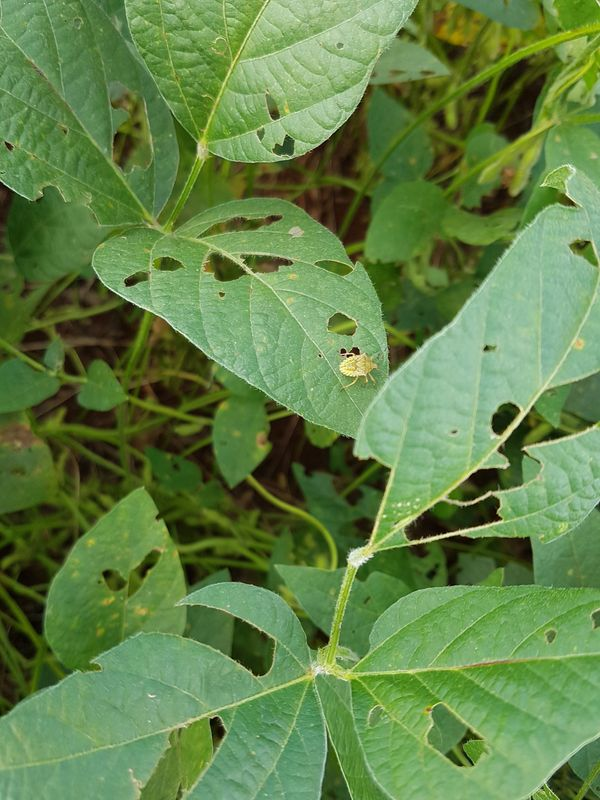Euschistus_heros_ninfa: (328, 344, 385, 392)
